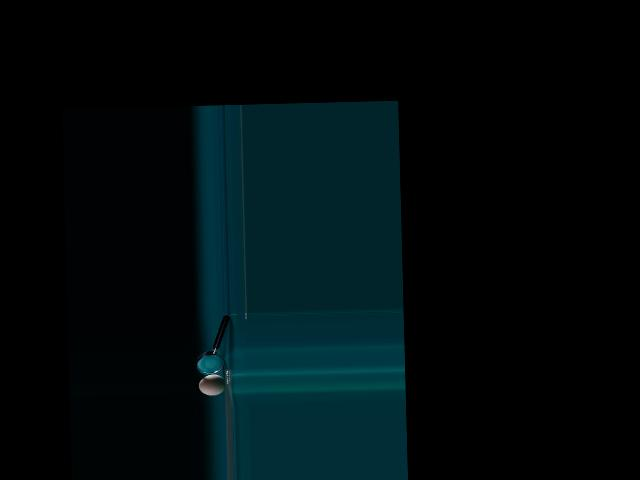egg: (198, 374, 225, 396)
